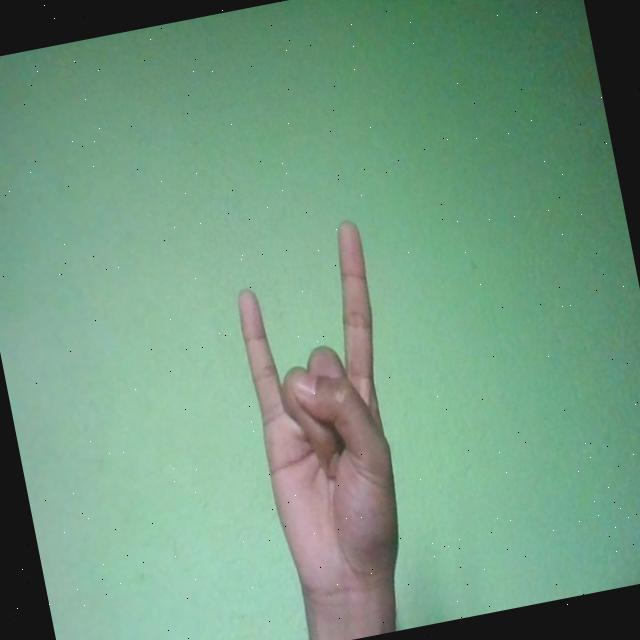open Plam: (223, 216, 429, 618)
